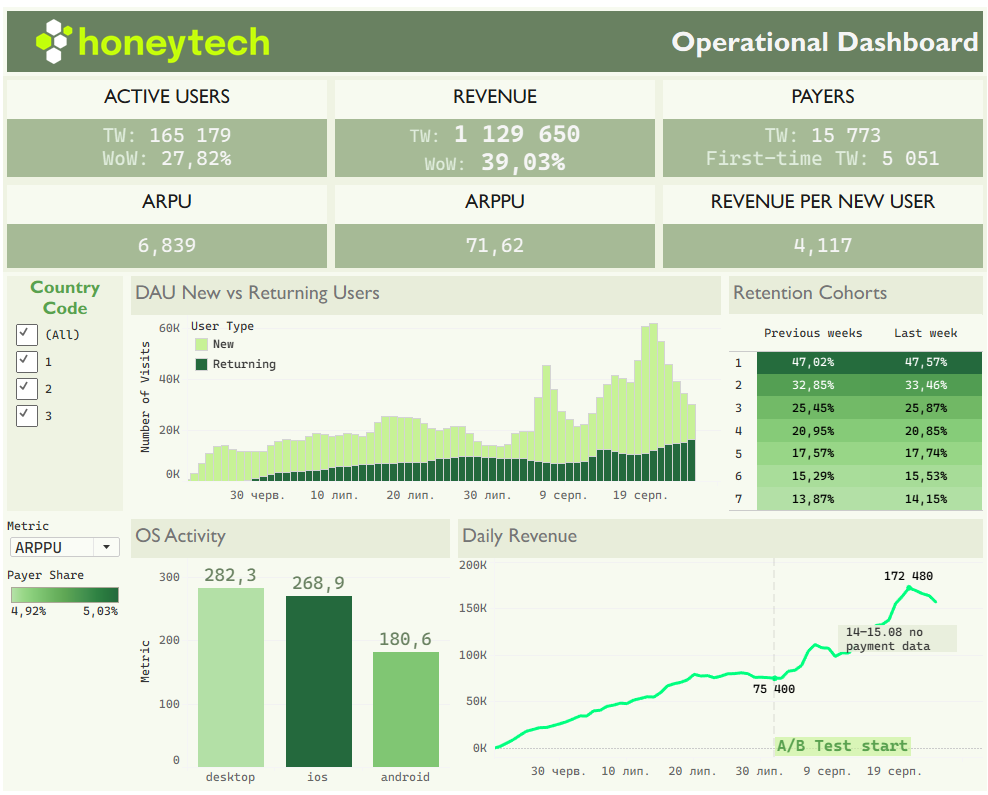

This screenshot's page, from the dashboard's own definition file:
{"tool":"tableau","page":{"name":"Operational Dashboard","canvas":[1000,800],"ordinal":0},"visuals":[{"type":"text","box":[8,8,984,69]},{"type":"image","param":"Image/vector_logo_honeytech-1024x809.png","box":[35,13,507,53]},{"type":"worksheet","title":"3 - Weekly Users","mark":"Automatic","box":[8,77,328,105]},{"type":"worksheet","title":"1 - Weekly Revenue","mark":"Text","box":[336,77,328,105]},{"type":"worksheet","title":"2 - Weekly Payers","mark":"Automatic","box":[664,77,328,105]},{"type":"worksheet","title":"6 - Weekly ARPU","mark":"Automatic","box":[8,182,328,90.9]},{"type":"worksheet","title":"5 - Weekly ARPPU","mark":"Automatic","box":[336,182,328,90.9]},{"type":"worksheet","title":"7 - New User Weekly Revenue","mark":"Automatic","box":[664,182,328,90.9]},{"type":"filter","title":"DAU New vs Returning","param":"[federated.1lzxysb0f5aldn15m2icz1jk2qzx].[none:country_code:ok]","box":[8,272.9,124,243.1]},{"type":"worksheet","title":"DAU New vs Returning","mark":"Bar","rows":["id (visits.csv)"],"cols":["date"],"box":[132,272.9,598,243.1]},{"type":"worksheet","title":"Retention Avg VS Last","mark":"Square","rows":["Calculation_1744581956064313351"],"cols":["Calculation_1744581956132433952"],"box":[730,272.9,262,243.1]},{"type":"legend","title":"DAU New vs Returning","param":"[federated.1lzxysb0f5aldn15m2icz1jk2qzx].[none:Calculation_1744581956054147077:n","box":[196,320,140,55]},{"type":"parameter","param":"[Parameters].[Parameter 1]","box":[8,516,124,49]},{"type":"worksheet","title":"OS Activity","mark":"Automatic","rows":["Calculation_1744581956163059749"],"cols":["default_os"],"box":[132,516,327,276]},{"type":"worksheet","title":"Daily Revenue","mark":"Line","rows":["Calculation_1744581956049731588"],"cols":["created_at (transactions.csv)"],"box":[459,516,533,276]},{"type":"legend","title":"OS Activity","param":"[federated.1lzxysb0f5aldn15m2icz1jk2qzx].[usr:Calculation_1744581956072460304:qk","box":[8,565,124,59]}]}

Visuals, with their boxes in screenshot pixels (x1, y1, x2, y2), scaled from the page's 1000x800 canvas onto the 988x795 screenshot:
text: (left=8, top=8, right=980, bottom=77)
image: (left=35, top=13, right=535, bottom=66)
"3 - Weekly Users" worksheet: (left=8, top=77, right=332, bottom=181)
"1 - Weekly Revenue" worksheet (Text marks): (left=332, top=77, right=656, bottom=181)
"2 - Weekly Payers" worksheet: (left=656, top=77, right=980, bottom=181)
"6 - Weekly ARPU" worksheet: (left=8, top=181, right=332, bottom=271)
"5 - Weekly ARPPU" worksheet: (left=332, top=181, right=656, bottom=271)
"7 - New User Weekly Revenue" worksheet: (left=656, top=181, right=980, bottom=271)
"DAU New vs Returning" filter: (left=8, top=271, right=130, bottom=513)
"DAU New vs Returning" worksheet (Bar marks): (left=130, top=271, right=721, bottom=513)
"Retention Avg VS Last" worksheet (Square marks): (left=721, top=271, right=980, bottom=513)
"DAU New vs Returning" legend: (left=194, top=318, right=332, bottom=373)
parameter: (left=8, top=513, right=130, bottom=561)
"OS Activity" worksheet: (left=130, top=513, right=453, bottom=787)
"Daily Revenue" worksheet (Line marks): (left=453, top=513, right=980, bottom=787)
"OS Activity" legend: (left=8, top=561, right=130, bottom=620)
